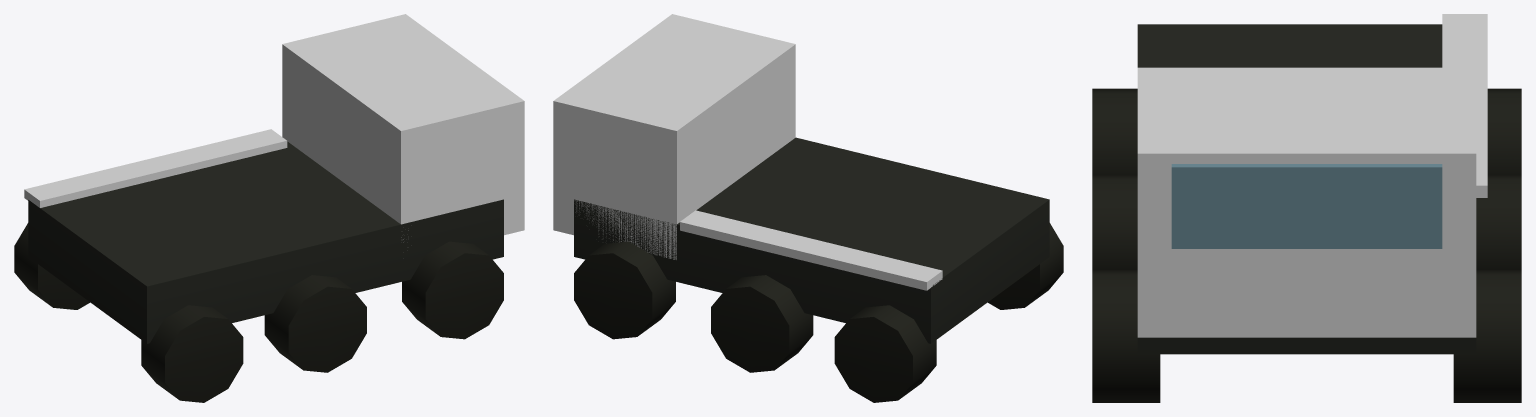
Rendered from m_krb_335d59ad.glb.
3 views of the same model, side by side, from view 1: azimuth 30°, elevation 25°; view 2: azimuth 150°, elevation 25°; view 3: azimuth 270°, elevation 25° (orthographic). The views are drawn at different scales.
Parts seen in each view (by area): view 1: mesh; view 2: mesh; view 3: mesh.
Part boxes in pixels (left/top/right/bottom): mesh: left=14, top=14, right=524, bottom=402; mesh: left=553, top=14, right=1063, bottom=402; mesh: left=1092, top=14, right=1521, bottom=402.
Bounding box in the file's own units: 27.85 × 14.5 × 19.
